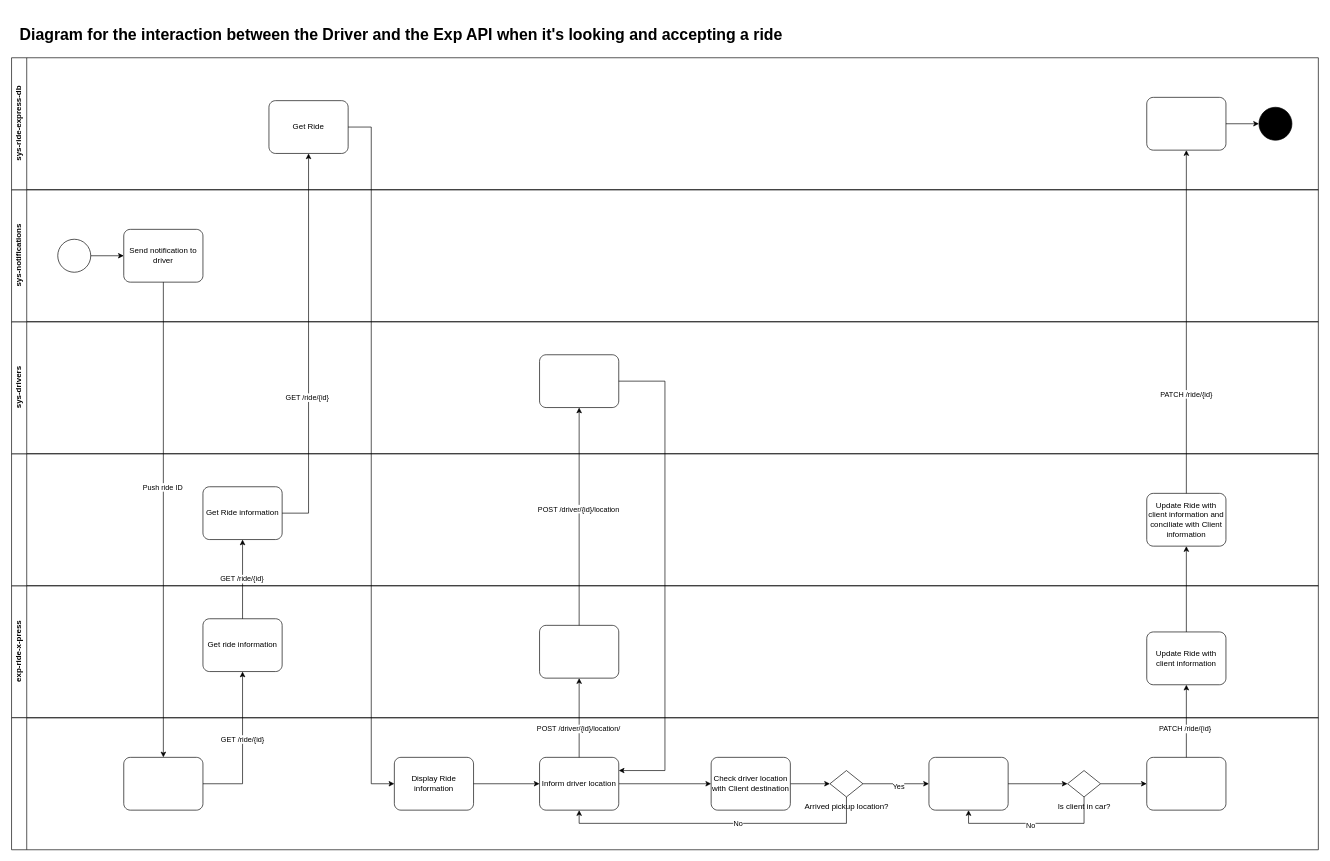
The diagram is 1330 pixels wide and 861 high, and some of its shapes have lost their labels. Each missing label, with the box of its shape:
Check if client is in car: (928, 757, 1008, 810)
Driver - Mobile App: (11, 717, 1318, 850)
Gets ride Information: (123, 757, 203, 810)
Inform Client in the car: (1146, 757, 1226, 810)
prc-ride: (11, 453, 1318, 586)
Store driver location: (539, 354, 619, 408)
Store driver location for ride: (539, 625, 619, 678)
Update Ride: (1146, 97, 1226, 150)
